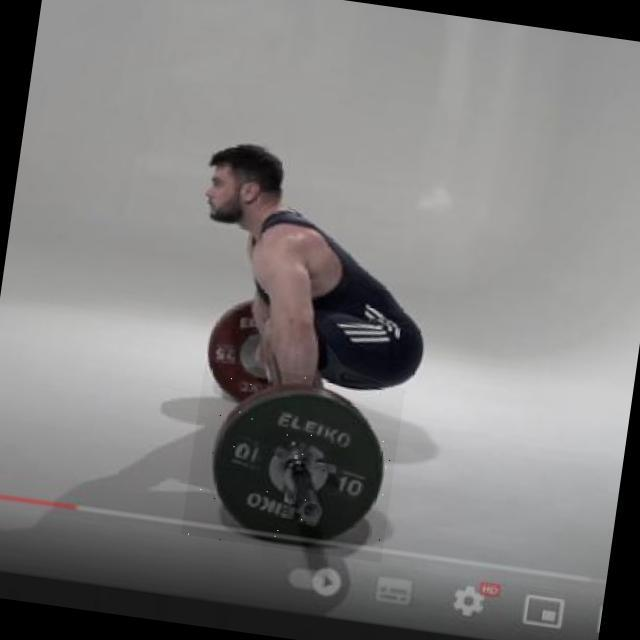barbell: (182, 361, 407, 564)
